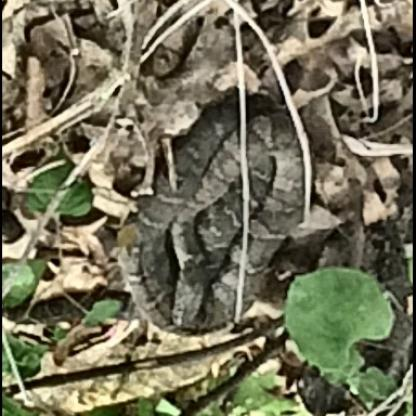Snake: (112, 89, 312, 338)
